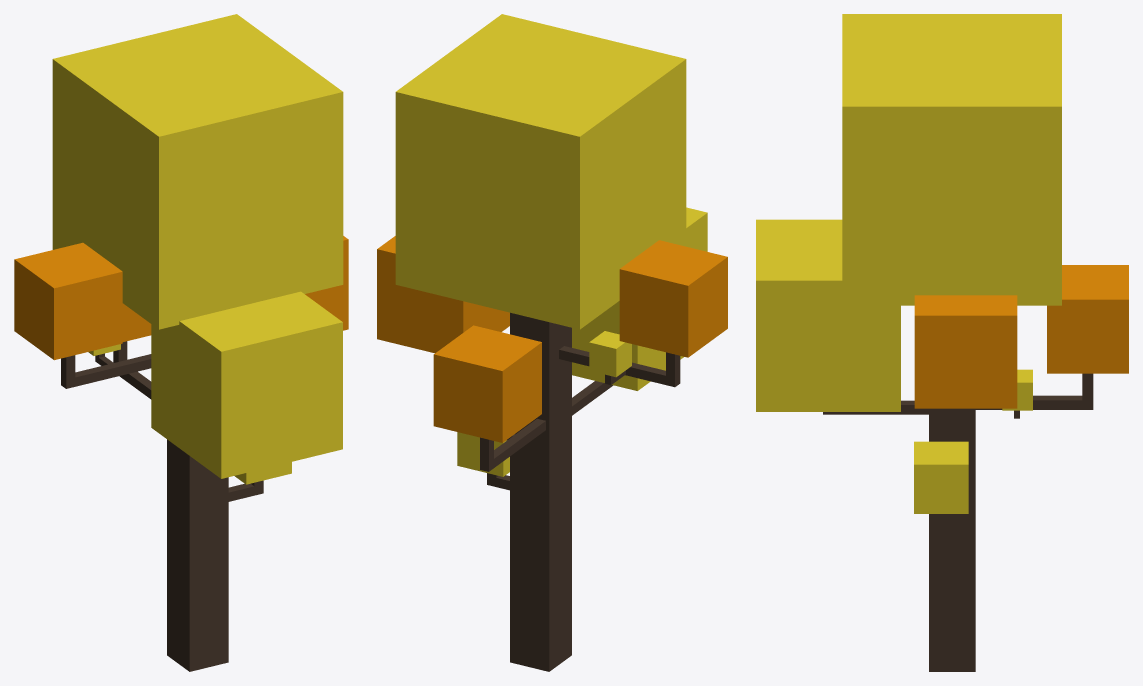
The model's file is Yellow_Tree-With-Texture.fbx.
3 renders of one model, left to right at view 1: azimuth 30°, elevation 25°; view 2: azimuth 150°, elevation 25°; view 3: azimuth 270°, elevation 25°, orthographic. The views are drawn at different scales.
Visible parts, largest first — view 1: Tree_3; view 2: Tree_3; view 3: Tree_3.
Boxes of the visible parts, x1,y1,x2,y2 form: Tree_3: (14, 14, 348, 671); Tree_3: (377, 14, 727, 671); Tree_3: (756, 14, 1128, 671).
Size of the model in its own units: 564 by 1057 by 594.
1 material, 1 textured.
